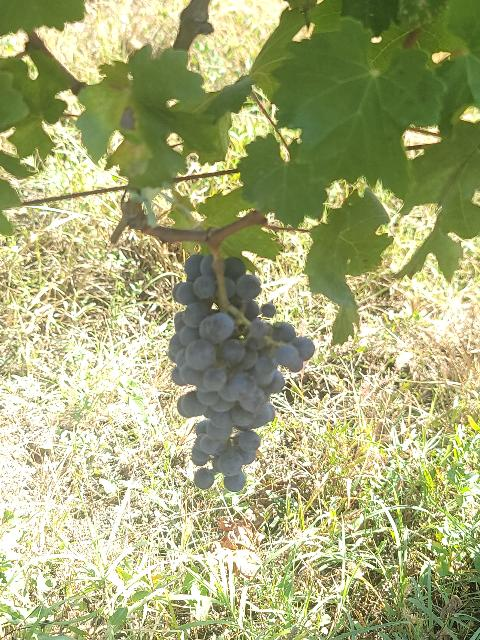grapes: (168, 255, 315, 491)
